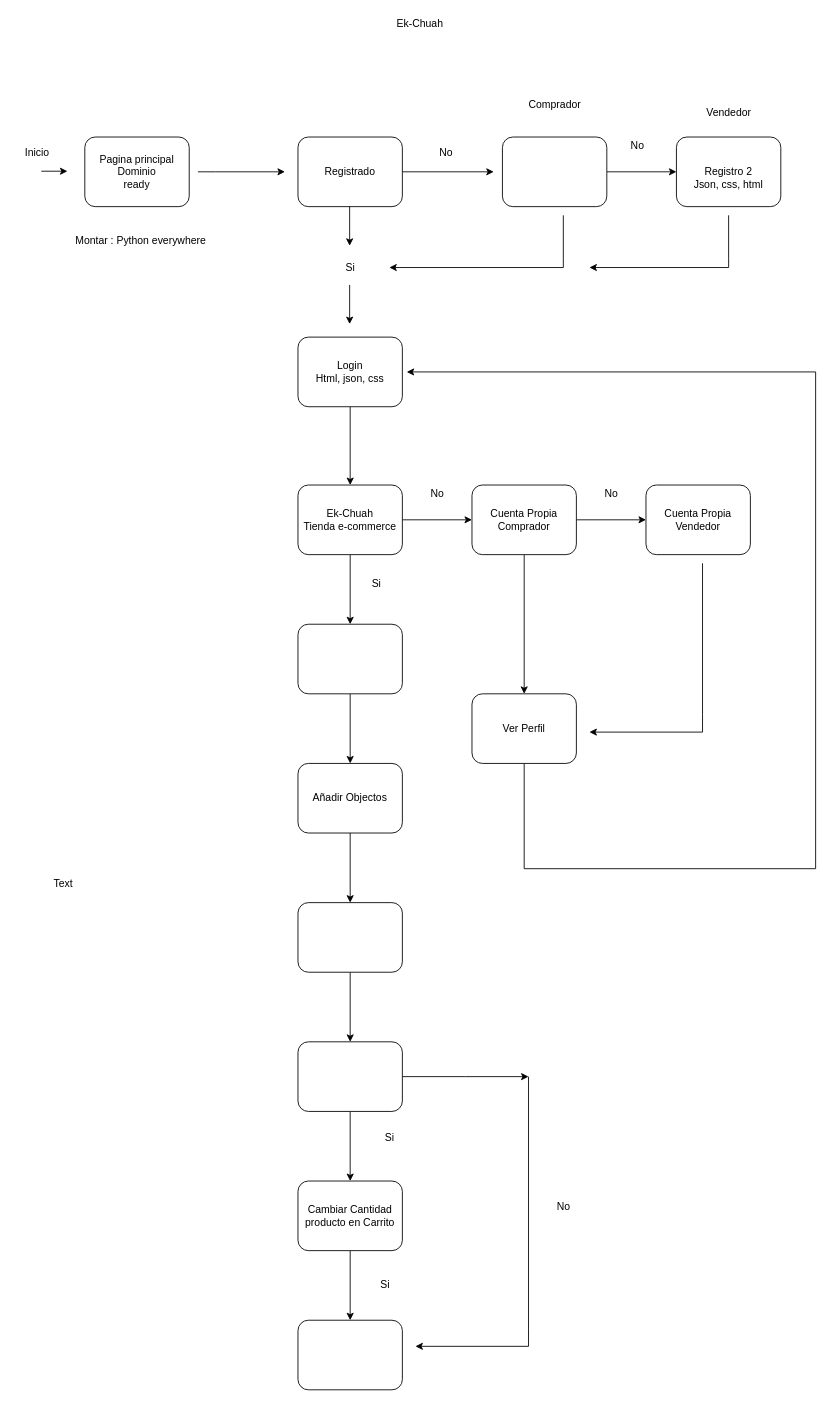
Image size: 838x1405. Some labels were removed from this diagram. Each missing label, with the centre of its shape:
Cambiar producto en Carrito: [349,1076]
Checkout: [349,1354]
Registro 1 Html, json, css: [554,171]
Ver Producto: [349,658]
Ver producto en Carrito: [349,937]
